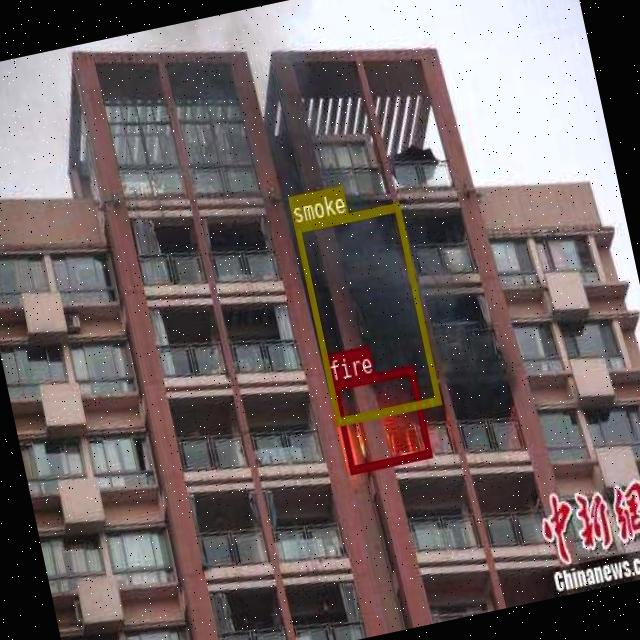fire: (329, 364, 432, 472)
smoke: (292, 201, 440, 424)
